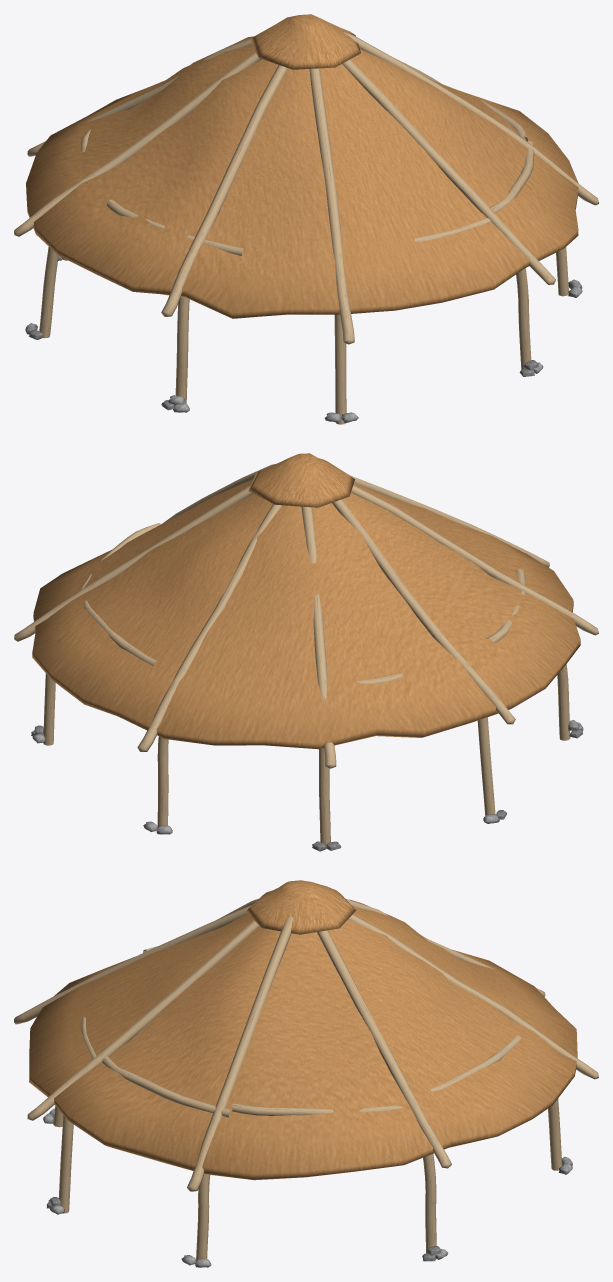
File: Market tent 2.fbx
3 views of the same model, one above another, from view 1: azimuth 30°, elevation 25°; view 2: azimuth 150°, elevation 25°; view 3: azimuth 270°, elevation 25° (orthographic). The views are drawn at different scales.
Visible parts, largest first — view 1: Market tent 2; view 2: Market tent 2; view 3: Market tent 2.
Boxes of the visible parts, x1,y1,x2,y2 form: Market tent 2: (14,14,598,424); Market tent 2: (14,453,598,851); Market tent 2: (14,880,598,1267).
Bounding box in the file's own units: 5.67 × 3.17 × 5.92.
